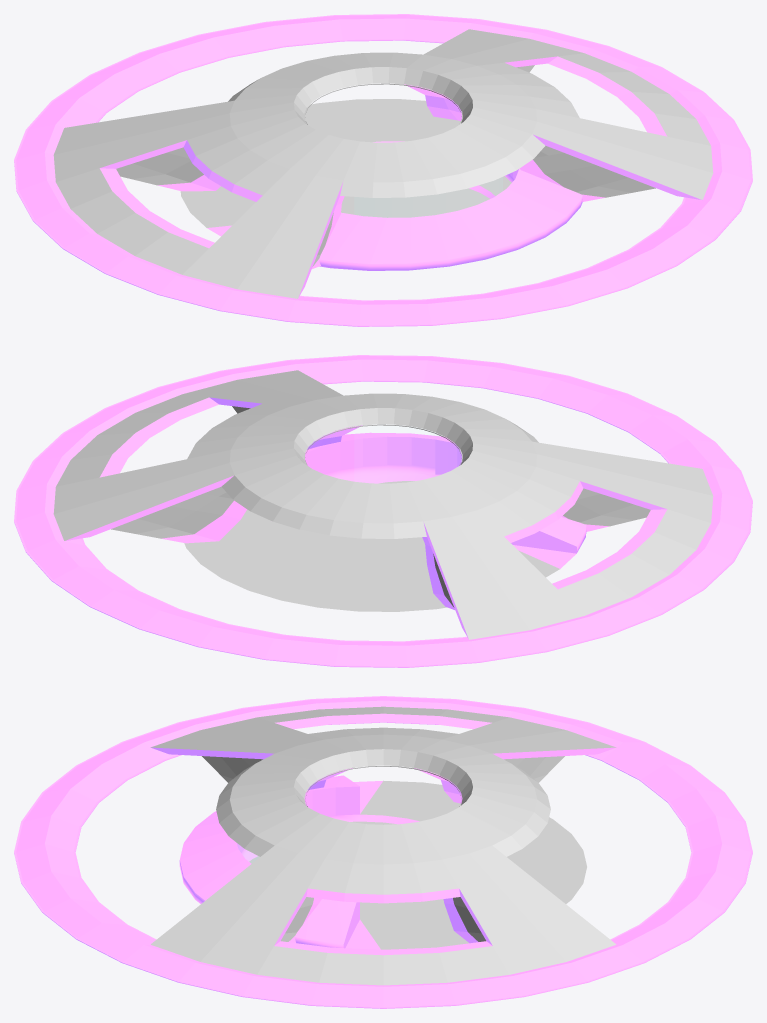
File: Space Ship.fbx
The picture shows the model from 3 angles, top to bottom: view 1: azimuth 30°, elevation 25°; view 2: azimuth 150°, elevation 25°; view 3: azimuth 270°, elevation 25°; orthographic projection.
Visible parts, largest first — view 1: Cylinder.006, Circle, Cylinder.001; view 2: Cylinder.006, Circle, Cylinder.001; view 3: Cylinder.006, Circle, Cylinder.001.
Boxes of the visible parts, left/top/right/bottom form: Cylinder.006: left=53, top=29, right=713, bottom=298; Circle: left=14, top=14, right=752, bottom=326; Cylinder.001: left=180, top=99, right=582, bottom=270; Cylinder.006: left=53, top=370, right=713, bottom=639; Circle: left=14, top=355, right=752, bottom=667; Cylinder.001: left=184, top=432, right=586, bottom=611; Cylinder.006: left=150, top=706, right=616, bottom=985; Circle: left=14, top=696, right=752, bottom=1008; Cylinder.001: left=179, top=775, right=586, bottom=949.
Size of the model in its own units: 9552 by 1626 by 9552.
